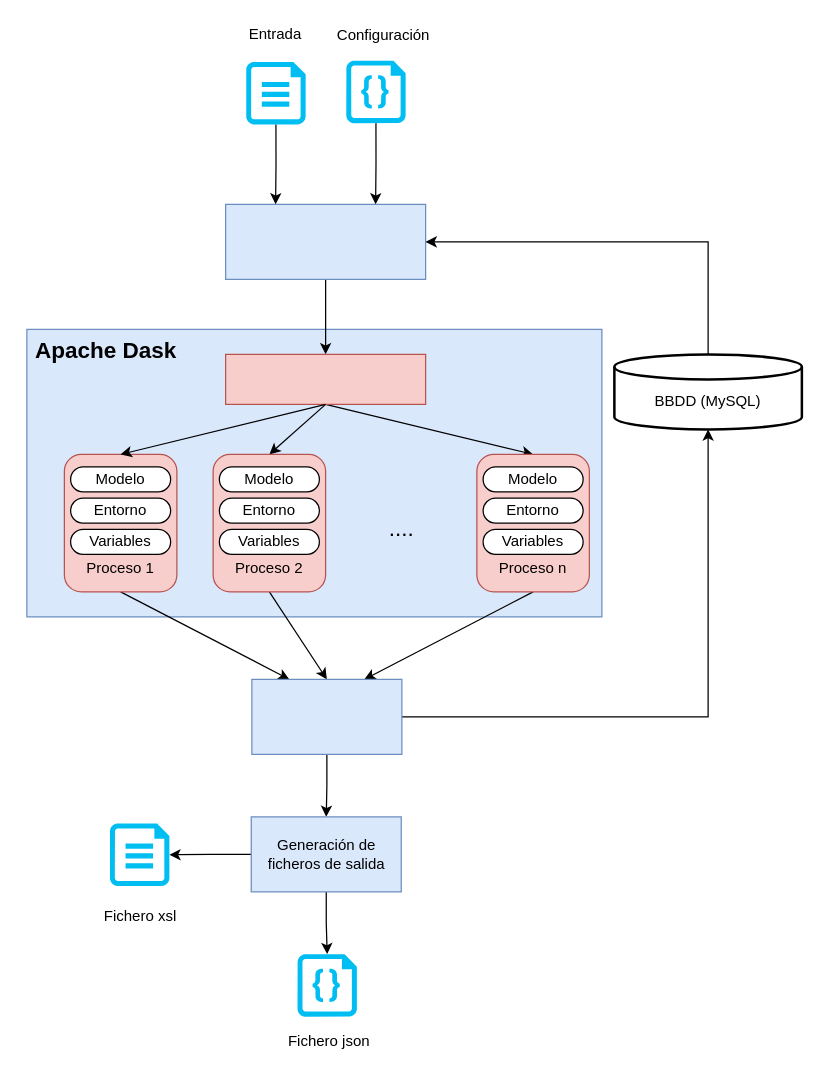
This 824x1075 diagram has some shape labels left out. Each missing label, with the box of its shape:
División de datos: (224, 353, 426, 404)
Lectura de datos: (224, 203, 426, 279)
Unificación y almacenamiento: (251, 678, 402, 754)
